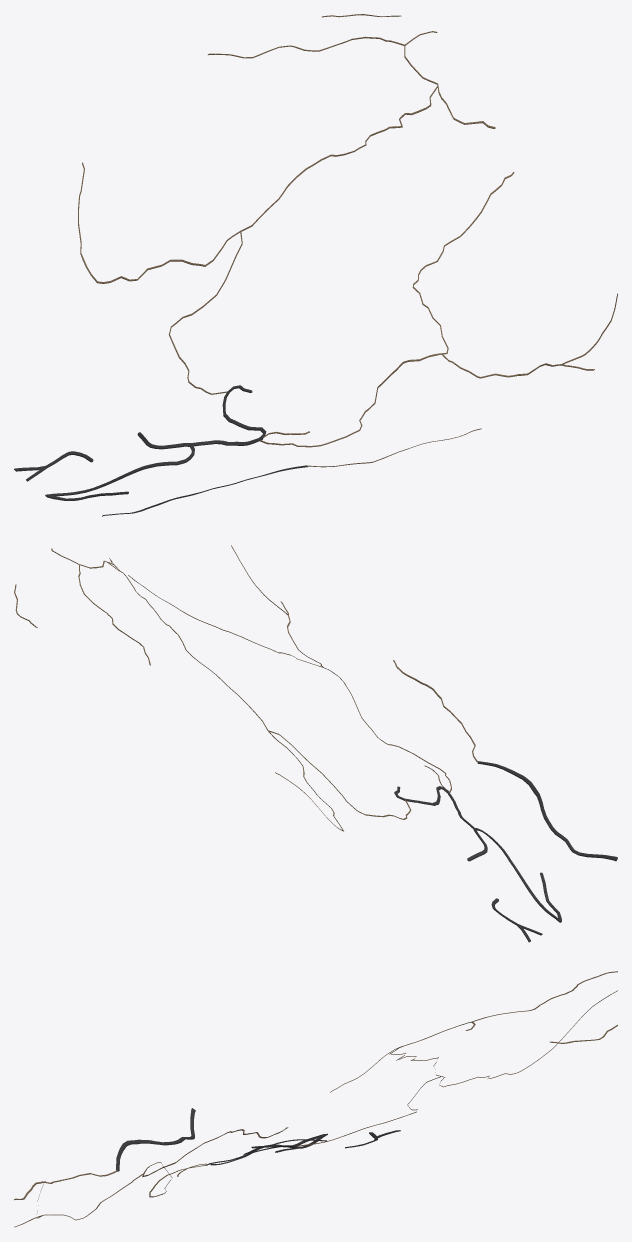
File: 16-54715-29745.9dac15dc.glb
The picture shows the model from 3 angles, top to bottom: view 1: azimuth 30°, elevation 25°; view 2: azimuth 150°, elevation 25°; view 3: azimuth 270°, elevation 25°; orthographic projection. The views are drawn at different scales.
Bounding box in the file's own units: 587 × 386 × 583.
